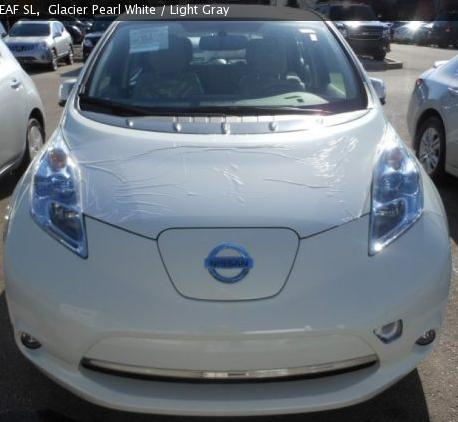front_view: (9, 130, 446, 401)
headlight: (354, 149, 433, 261)
